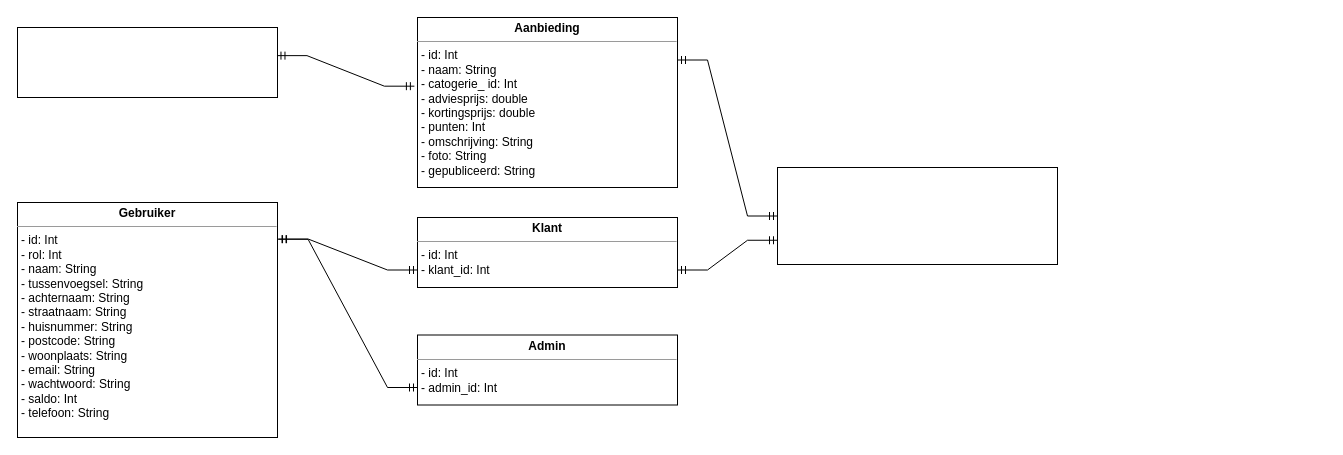
This 1343x455 diagram has some shape labels left out. Each missing label, with the centre of its shape:
"Bon - id: Int - aanbieding_Id: Int - klant_id: Int - gebruikt: String" goes at point 917,215.
"Categorie - id: Int - naam: String" goes at point 147,62.
